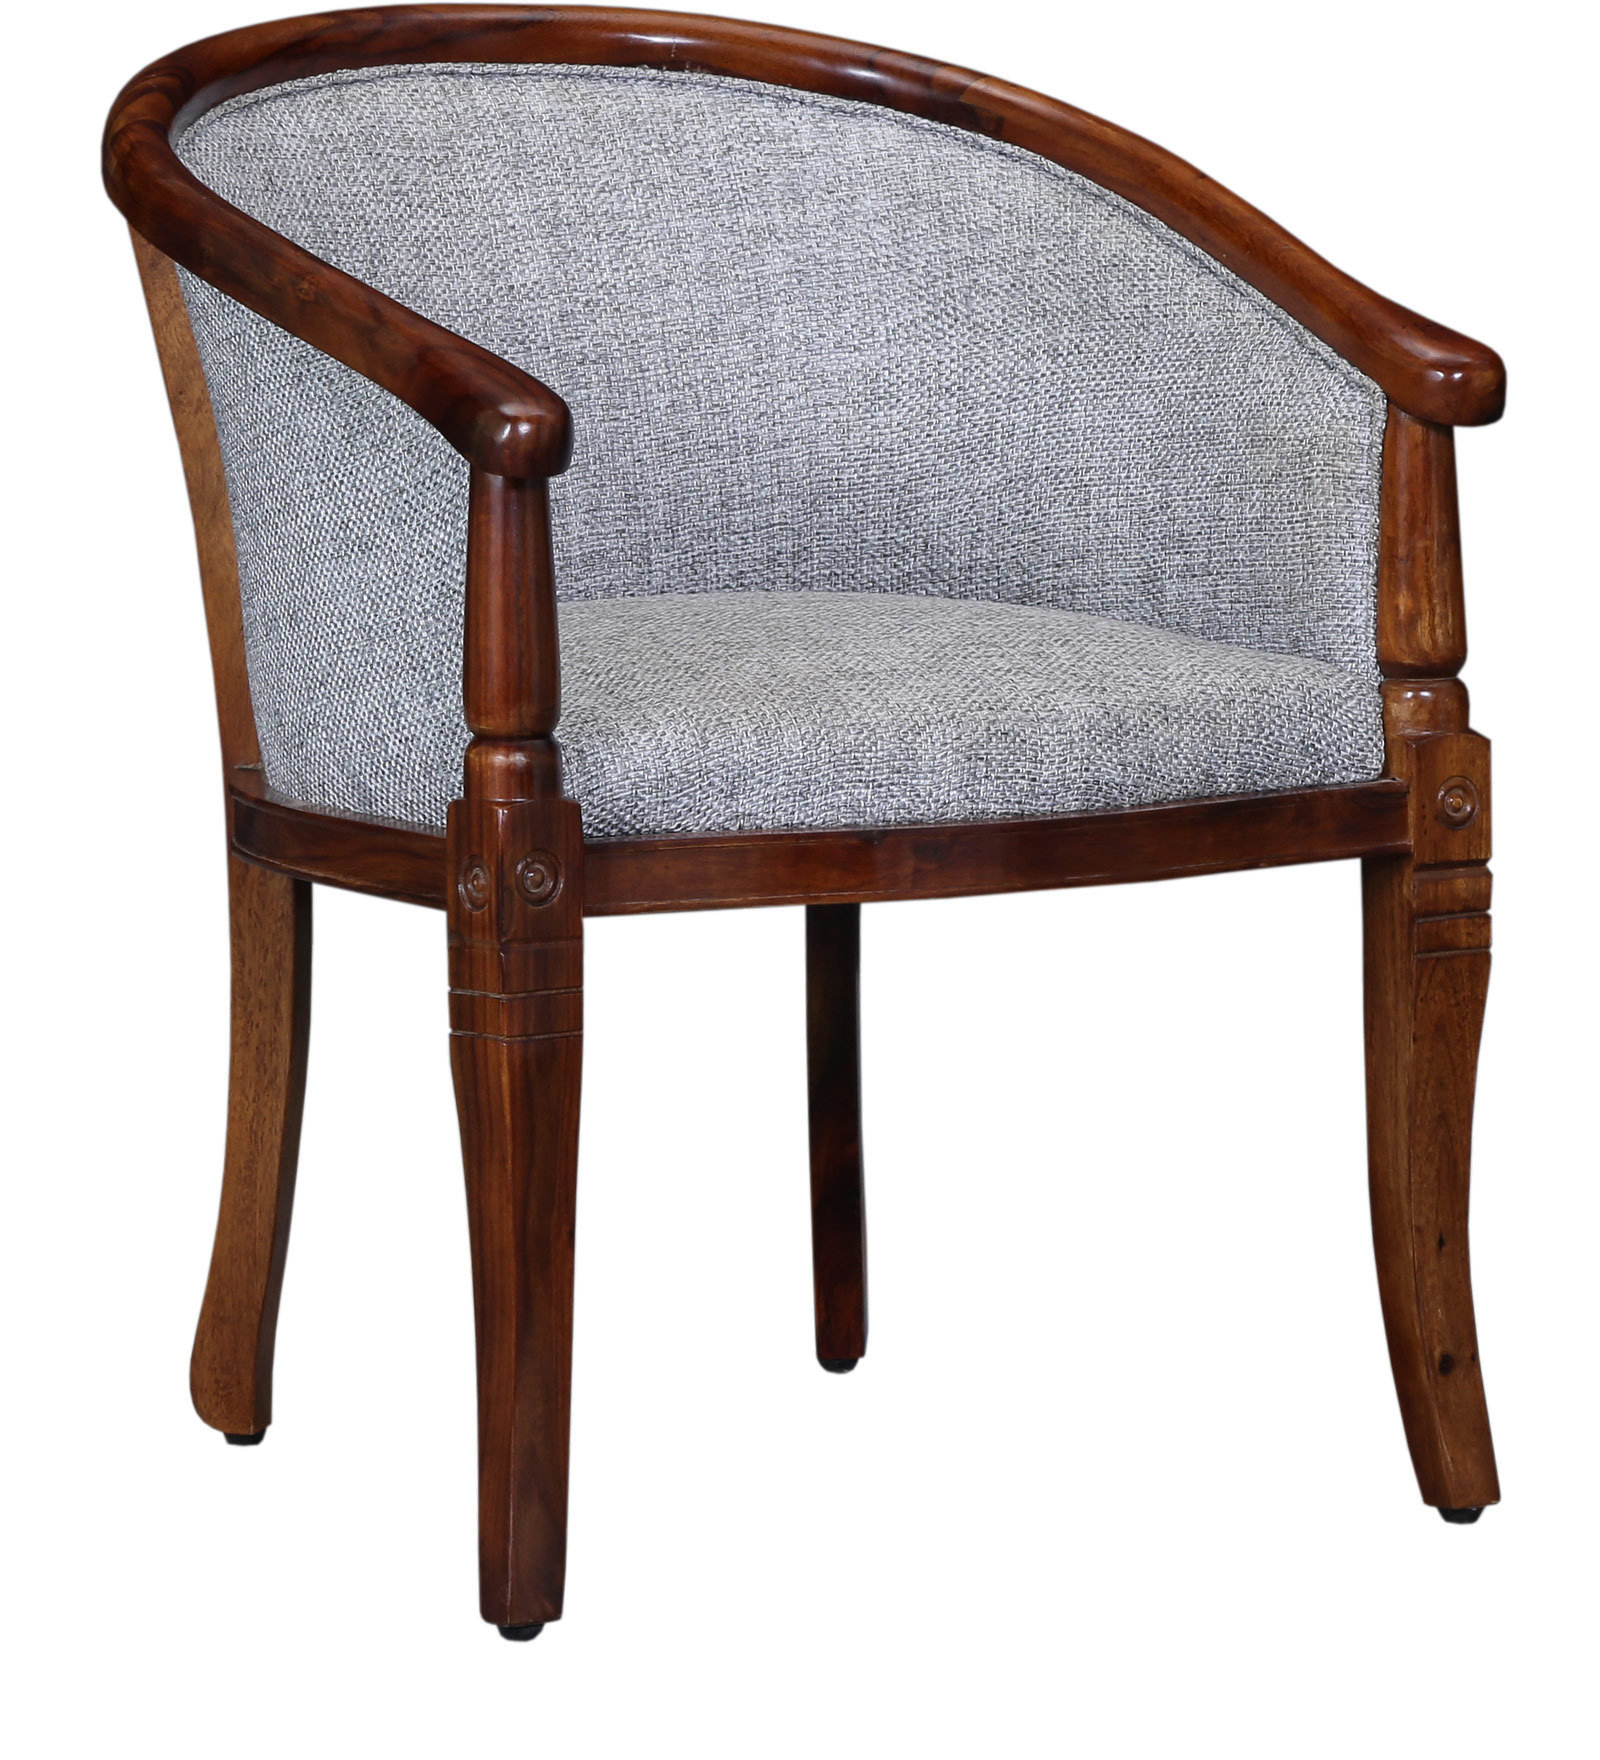Stalley Arm Chair in Grey Color with Honey Oak Finish by Amberville: (66, 8, 1565, 1637)
